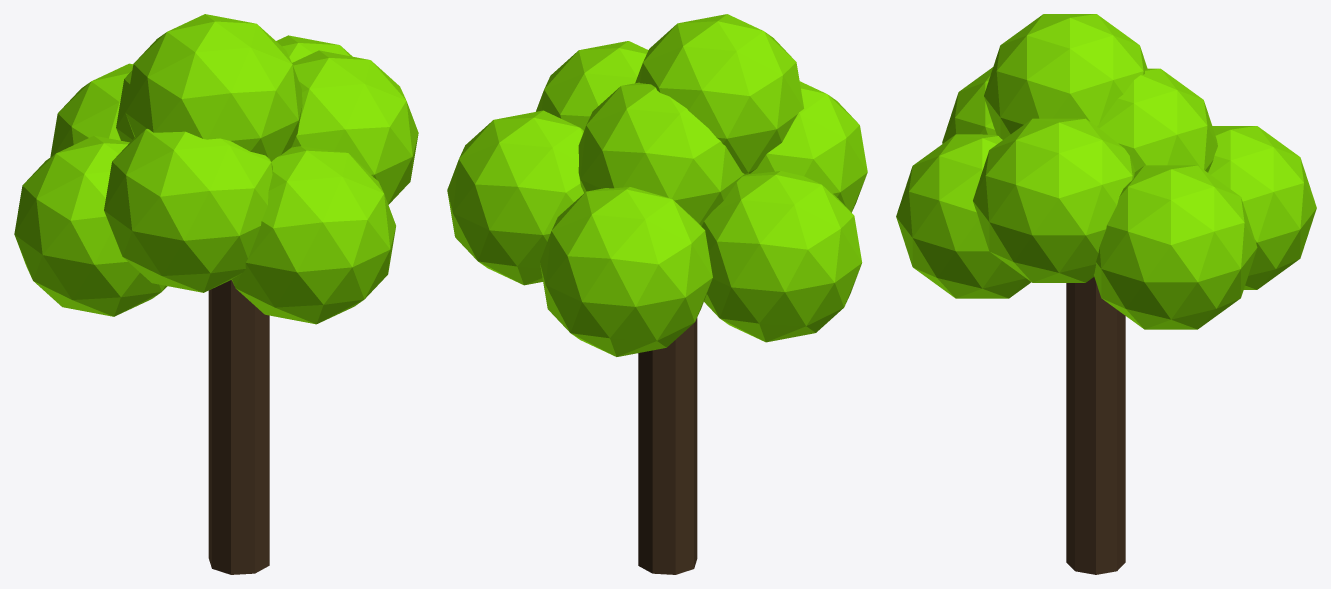
File: drzewo2_cale.fbx
3 views of the same model, side by side, from view 1: azimuth 30°, elevation 25°; view 2: azimuth 150°, elevation 25°; view 3: azimuth 270°, elevation 25° (orthographic). The views are drawn at different scales.
Parts seen in each view (by area): view 1: Cylinder.001; view 2: Cylinder.001; view 3: Cylinder.001.
Boxes of the visible parts, box(x1,y1,x2,y2) form: Cylinder.001: box(14, 14, 418, 574); Cylinder.001: box(447, 14, 867, 574); Cylinder.001: box(896, 14, 1316, 574).
Size of the model in its own units: 1368 by 1960 by 1418.
